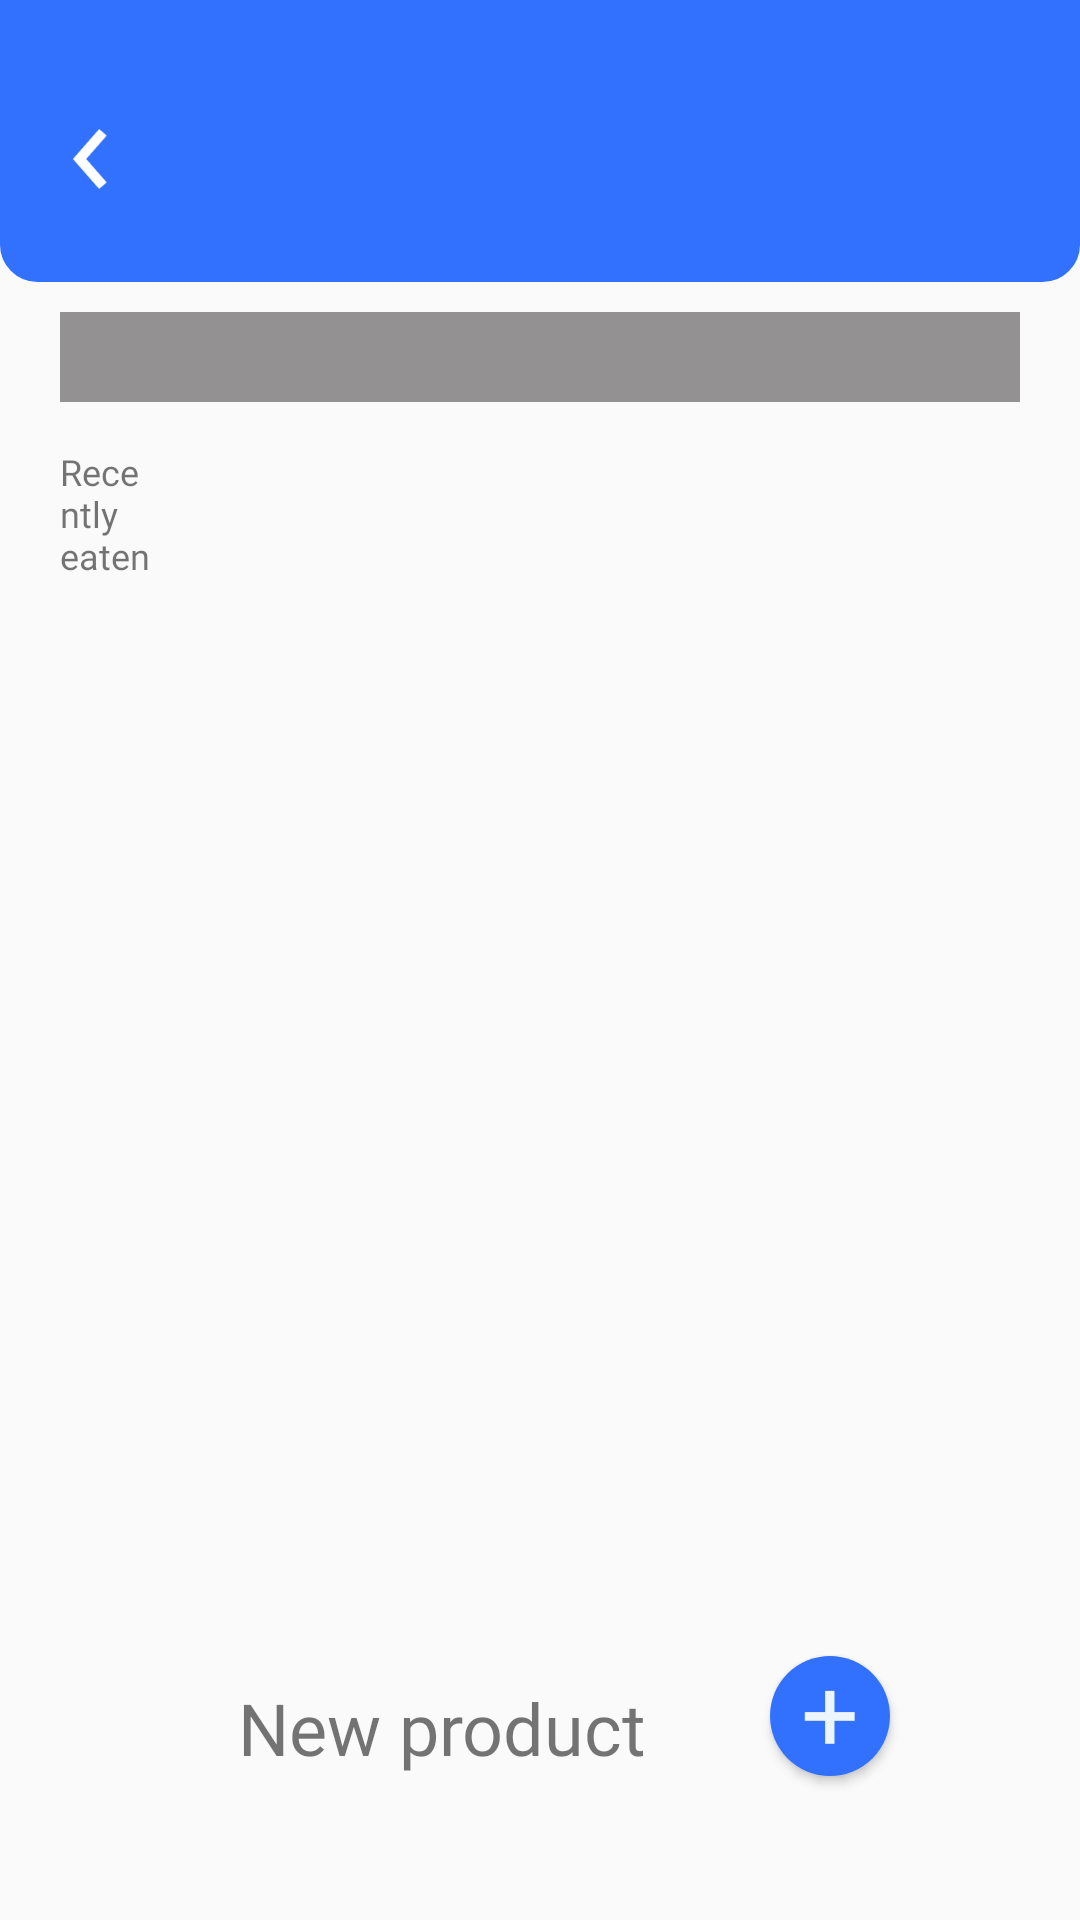

Point at icon controls on the screen. Image size 1080*1920, points as (x=x, y=y).
arrow left: (x=90, y=159)
